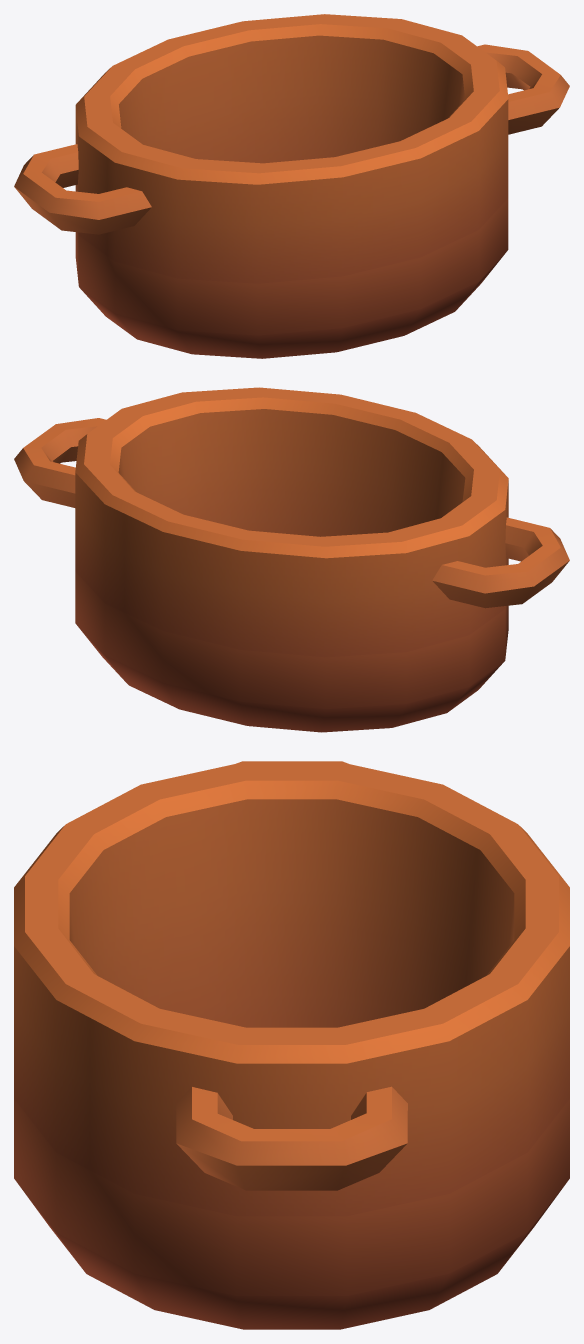
File: pot_large.glb
3 views of the same model, one above another, from view 1: azimuth 30°, elevation 25°; view 2: azimuth 150°, elevation 25°; view 3: azimuth 270°, elevation 25° (orthographic). The views are drawn at different scales.
Visible parts, largest first — view 1: pot_large; view 2: pot_large; view 3: pot_large.
Part boxes in pixels (<box>): pot_large: <box>14,14,569,358</box>; pot_large: <box>14,387,569,732</box>; pot_large: <box>14,761,569,1329</box>.
Bounding box in the file's own units: 2 × 0.75 × 1.2.
1 material, 1 textured.
